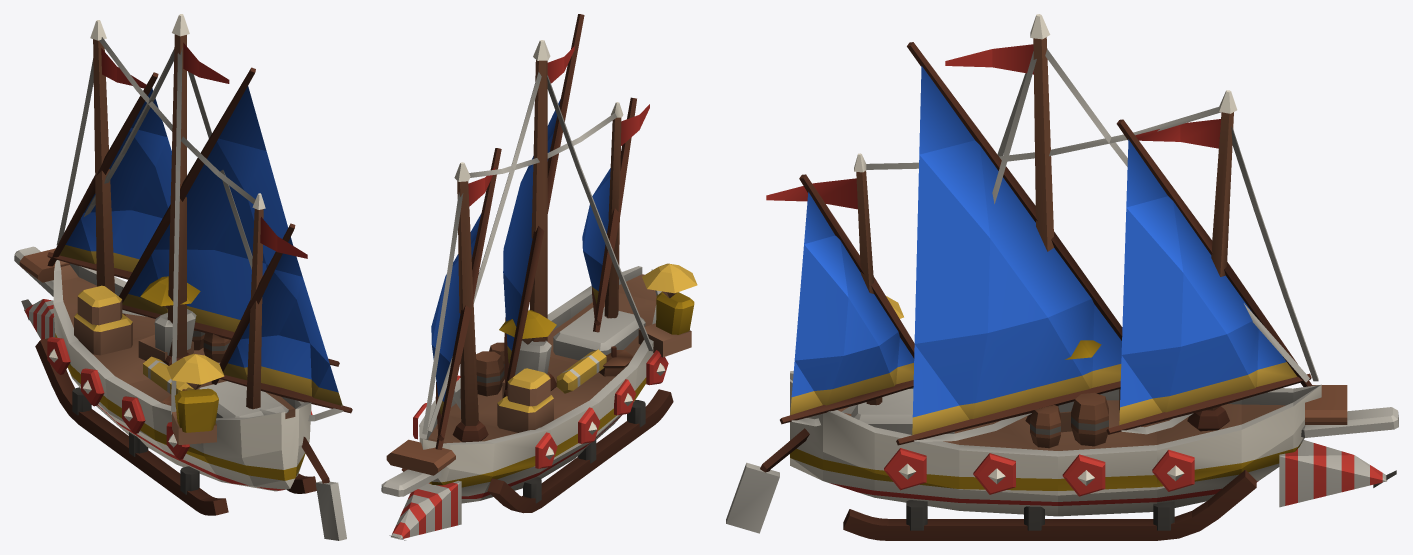
3 renders of one model, left to right at view 1: azimuth 30°, elevation 25°; view 2: azimuth 150°, elevation 25°; view 3: azimuth 270°, elevation 25°, orthographic. The views are drawn at different scales.
Visible parts, largest first — view 1: body, swaySailB, swaySailC, swaySailA, swayFlagC, swayFlagB, swayFlagA; view 2: body, swaySailB, swaySailA, swaySailC, swayFlagC, swayFlagB, swayFlagA; view 3: body, swaySailB, swaySailA, swaySailC, swayFlagB, swayFlagA, swayFlagC.
Boxes of the visible parts, <box> form: body: <box>14,14,346,540</box>; swaySailB: <box>119,67,339,366</box>; swaySailC: <box>211,223,352,421</box>; swaySailA: <box>47,72,171,316</box>; swayFlagC: <box>260,217,307,258</box>; swayFlagB: <box>183,42,229,83</box>; swayFlagA: <box>101,48,146,88</box>; body: <box>381,40,697,540</box>; swaySailB: <box>503,14,584,397</box>; swaySailA: <box>431,148,501,449</box>; swaySailC: <box>582,97,636,332</box>; swayFlagC: <box>621,104,649,145</box>; swayFlagB: <box>547,46,574,83</box>; swayFlagA: <box>468,167,495,206</box>; body: <box>726,14,1398,540</box>; swaySailB: <box>896,42,1122,445</box>; swaySailA: <box>1106,119,1312,434</box>; swaySailC: <box>780,174,914,426</box>; swayFlagB: <box>945,44,1033,74</box>; swayFlagA: <box>1135,119,1220,148</box>; swayFlagC: <box>766,178,857,209</box>.
Bounding box in the file's own units: 1.03 × 2.36 × 2.86.
